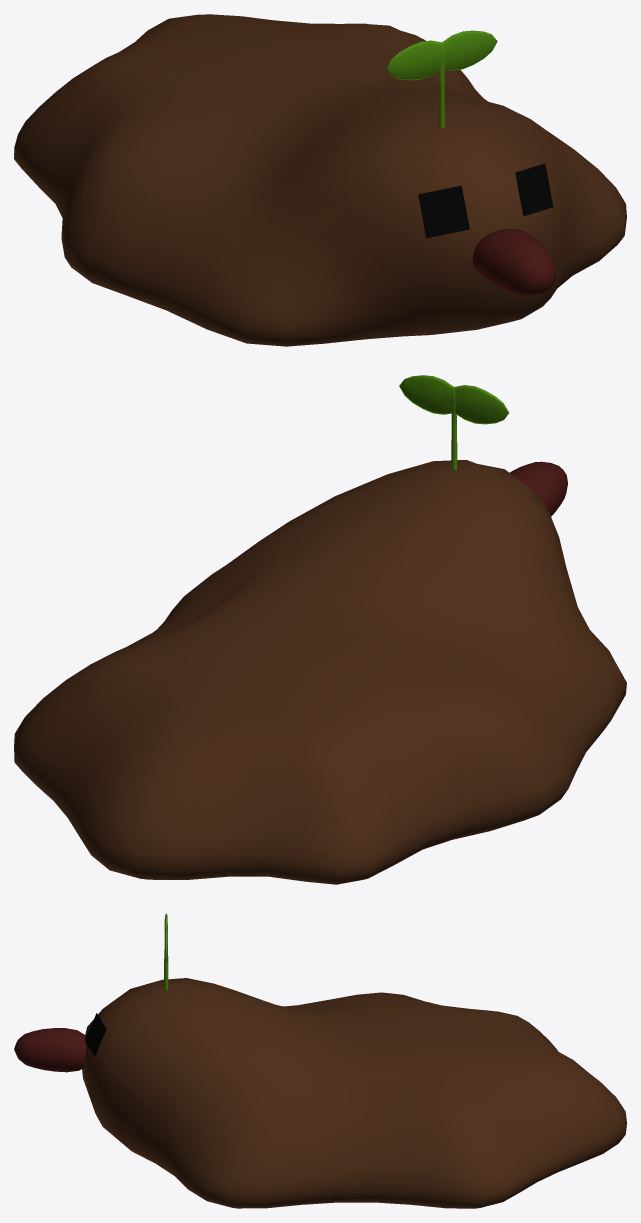
Rendered from ModeloPlayerLama.fbx.
The picture shows the model from 3 angles, top to bottom: view 1: azimuth 30°, elevation 25°; view 2: azimuth 150°, elevation 25°; view 3: azimuth 270°, elevation 25°; orthographic projection. The views are drawn at different scales.
Visible parts, largest first — view 1: BonecoLama.004; view 2: BonecoLama.004; view 3: BonecoLama.004.
Boxes of the visible parts, x1,y1,x2,y2 form: BonecoLama.004: (14,14,626,346); BonecoLama.004: (14,375,626,884); BonecoLama.004: (14,913,626,1208).
Bounding box in the file's own units: 94.49 × 58.39 × 147.
